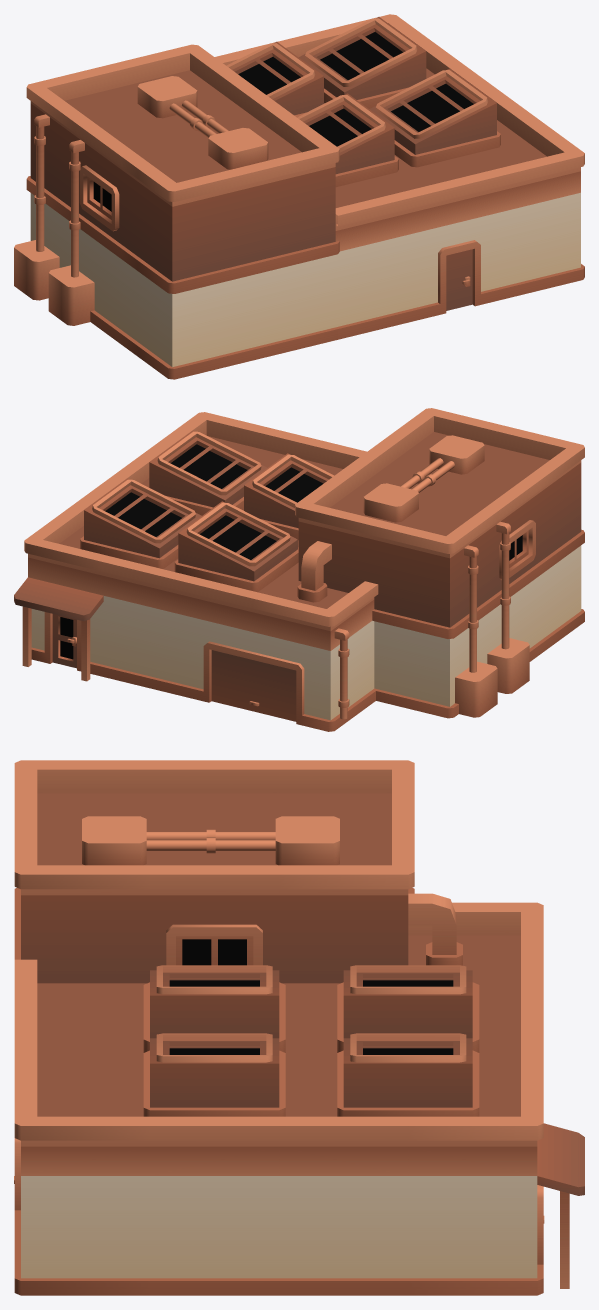
File: building-q.glb
3 views of the same model, one above another, from view 1: azimuth 30°, elevation 25°; view 2: azimuth 150°, elevation 25°; view 3: azimuth 270°, elevation 25° (orthographic). The views are drawn at different scales.
Parts seen in each view (by area): view 1: building-q; view 2: building-q; view 3: building-q.
Part boxes in pixels (x1,y1,x2,y2): building-q: (14, 14, 584, 379); building-q: (14, 408, 584, 731); building-q: (14, 760, 584, 1295).
Bounding box in the file's own units: 2.14 × 0.88 × 1.77.
1 material, 1 textured.
